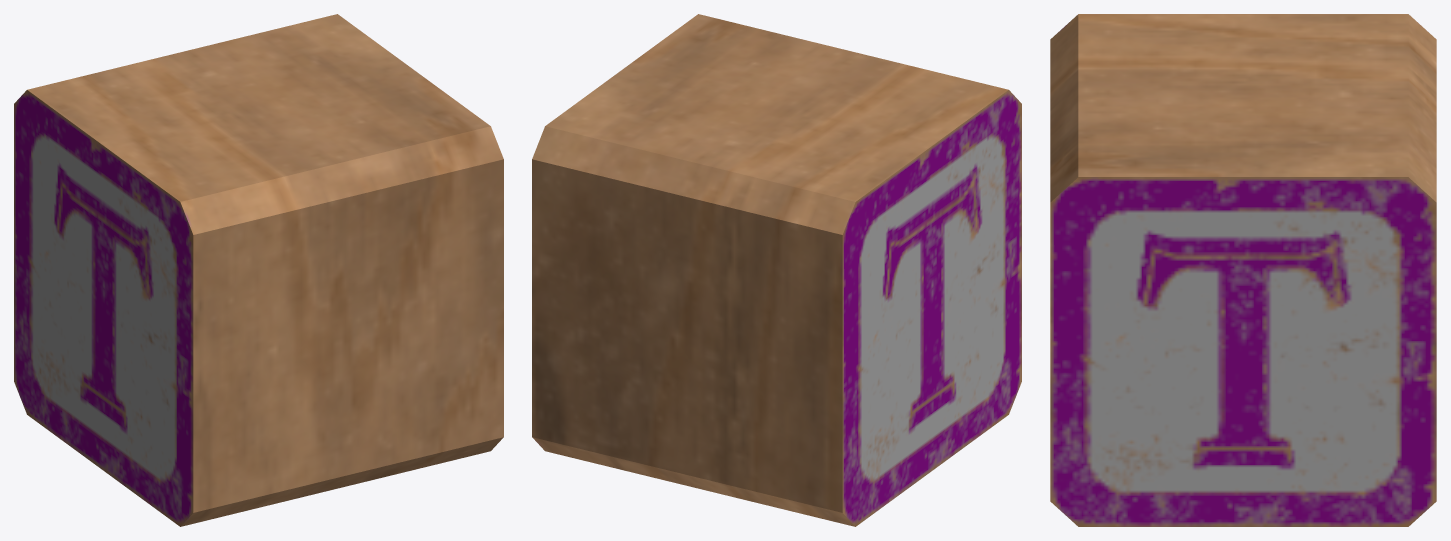
The picture shows the model from 3 angles, left to right: view 1: azimuth 30°, elevation 25°; view 2: azimuth 150°, elevation 25°; view 3: azimuth 270°, elevation 25°; orthographic projection. The views are drawn at different scales.
Visible parts, largest first — view 1: T_low; view 2: T_low; view 3: T_low.
Part boxes in pixels (x1,y1,x2,y2): T_low: [14, 14, 503, 526]; T_low: [532, 14, 1021, 526]; T_low: [1050, 14, 1436, 526].
Bounding box in the file's own units: 20 × 20 × 20.
Materials: 1 (1 with a texture image).
